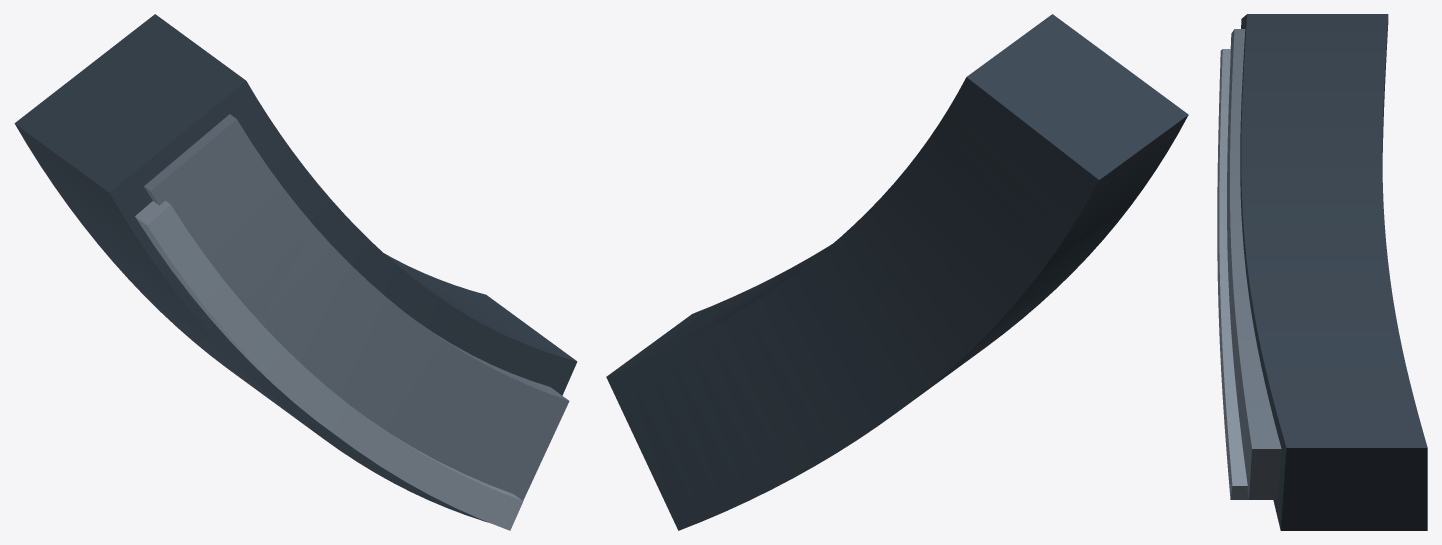
Rendered from ev_core_r10dp_mid_sw.glb.
The picture shows the model from 3 angles, left to right: view 1: azimuth 30°, elevation 25°; view 2: azimuth 150°, elevation 25°; view 3: azimuth 270°, elevation 25°; orthographic projection. The views are drawn at different scales.
Visible parts, largest first — view 1: mid_sw_body, mid_sw_inset, mid_sw_edge; view 2: mid_sw_body; view 3: mid_sw_body, mid_sw_inset, mid_sw_edge.
Part boxes in pixels (<box>): mid_sw_body: <box>14,14,577,522</box>; mid_sw_inset: <box>144,114,569,500</box>; mid_sw_edge: <box>135,200,523,530</box>; mid_sw_body: <box>606,14,1188,530</box>; mid_sw_body: <box>1240,14,1427,530</box>; mid_sw_inset: <box>1227,29,1281,499</box>; mid_sw_edge: <box>1217,49,1248,499</box>.
Size of the model in its own units: 56.66 by 57.81 by 26.82.
